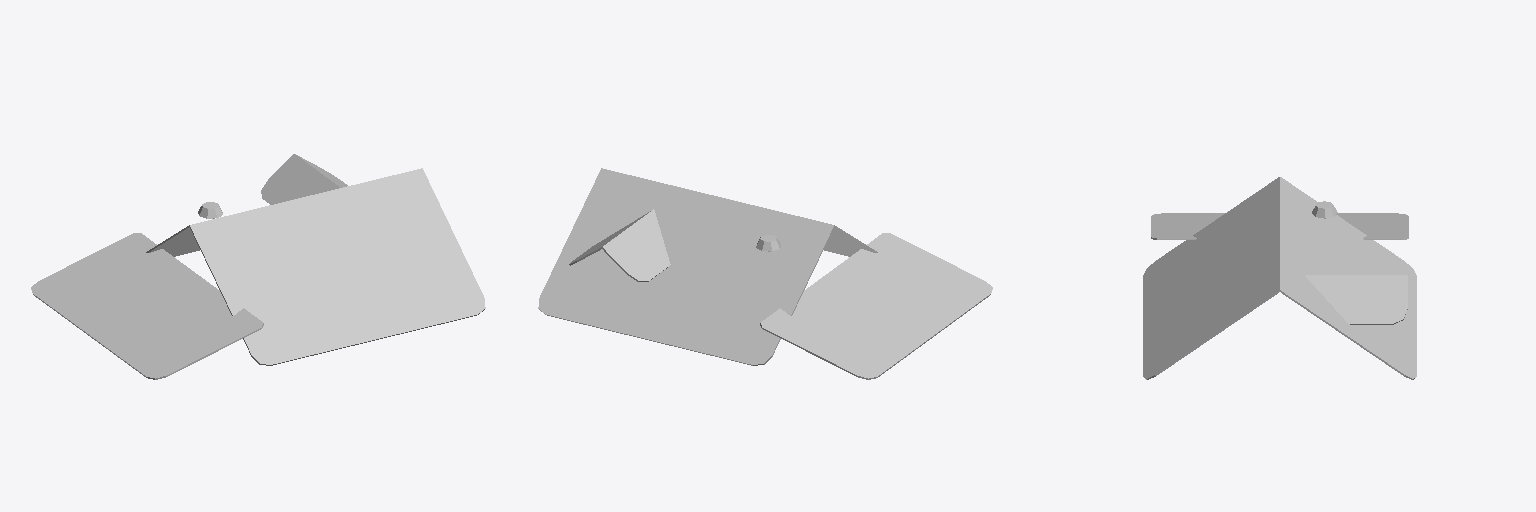
Rendered from building-type-i_roof.obj.
3 renders of one model, left to right at view 1: azimuth 30°, elevation 25°; view 2: azimuth 150°, elevation 25°; view 3: azimuth 270°, elevation 25°, orthographic.
Visible parts, largest first — view 1: building-type-i.001; view 2: building-type-i.001; view 3: building-type-i.001.
Boxes of the visible parts, <box> form: building-type-i.001: <box>31,154,485,379</box>; building-type-i.001: <box>538,168,992,379</box>; building-type-i.001: <box>1143,177,1416,379</box>.
Bounding box in the file's own units: 1.29 × 0.3483 × 0.916.